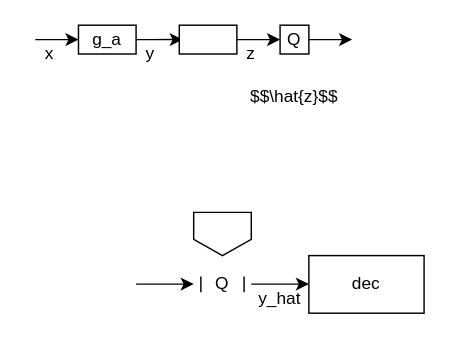
Image size: 449x338. Some labels were removed from this diagram. The shapes that lost their labels are listed below. From the top down, each one's centre as x and y in pixels, then its label:
At point 207,39: "h_a".
At point 221,233: "EM".
